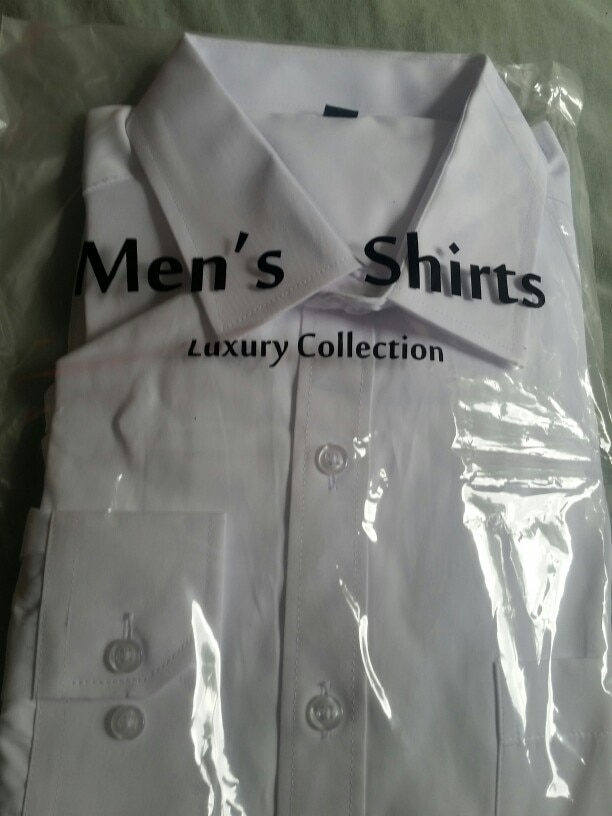shirts: (19, 27, 612, 803)
